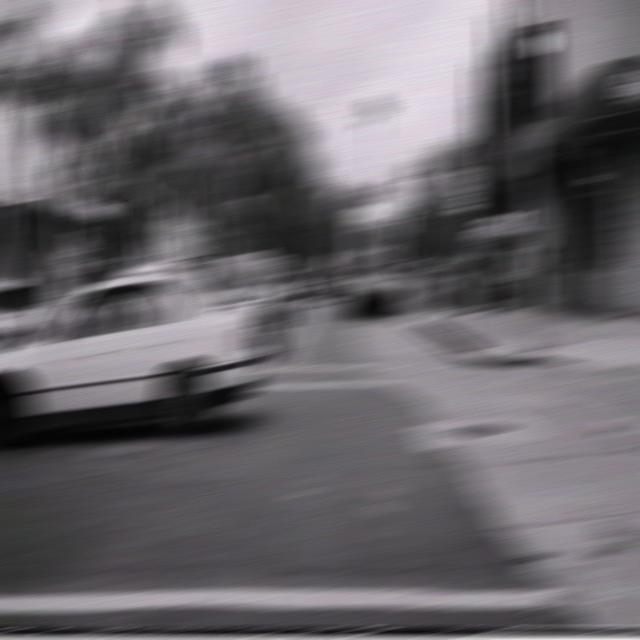speedLimit25: (446, 166, 478, 212)
